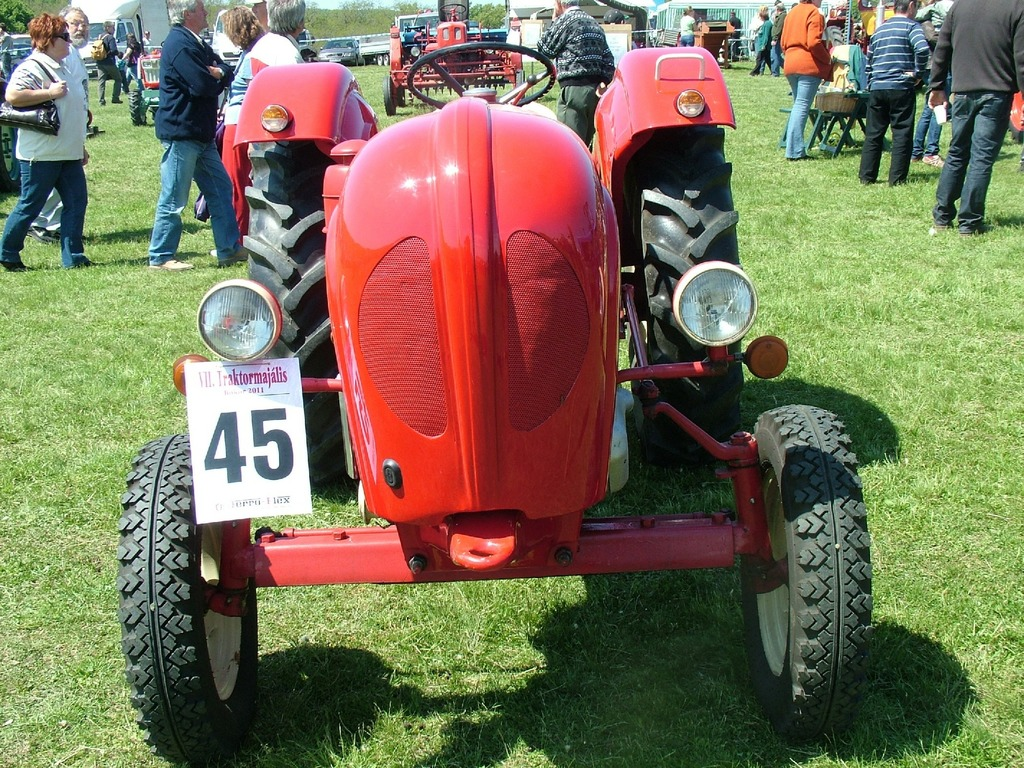Car: (399, 18, 504, 55), (312, 39, 366, 68), (8, 44, 31, 71), (11, 34, 32, 44)
